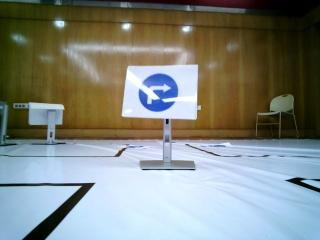right: (131, 67, 189, 118)
